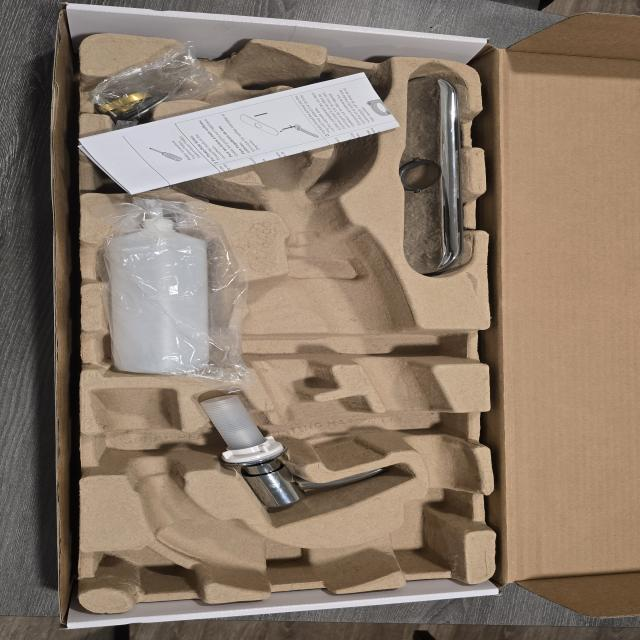1m: (94, 60, 476, 586)
2: (199, 394, 388, 509)
3: (103, 204, 211, 375)
4: (400, 77, 469, 274)
5m: (319, 77, 381, 113)
6: (85, 44, 219, 119)
7m: (113, 136, 178, 187)
8: (75, 72, 402, 194)
